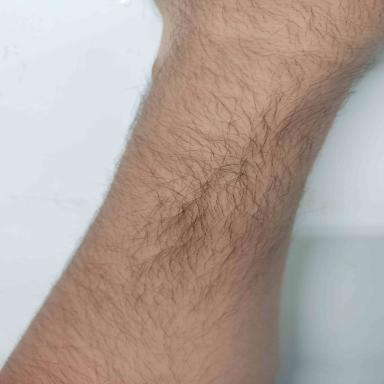normal skin: (1, 0, 383, 384), (253, 137, 256, 139)
